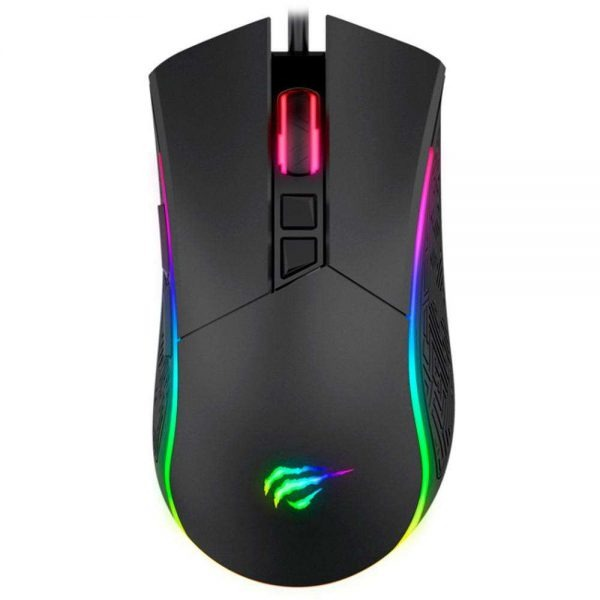mouse: (141, 5, 484, 590)
